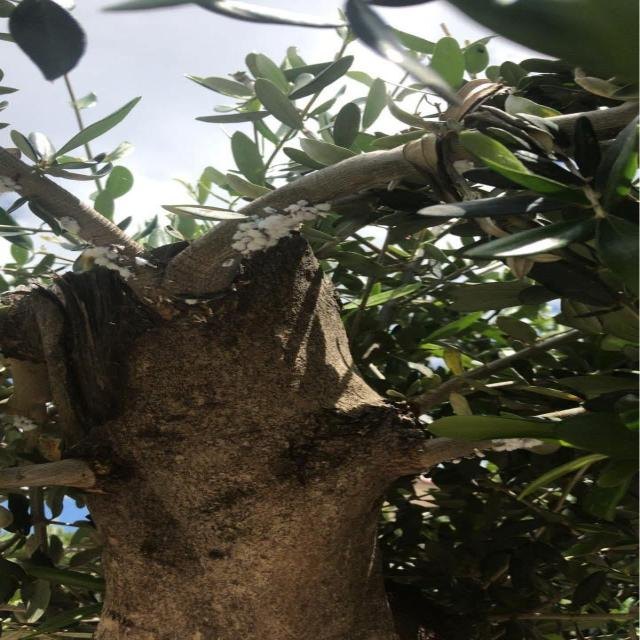Psyllid: (232, 200, 329, 258), (75, 244, 161, 280), (476, 438, 553, 456), (53, 216, 91, 242)
